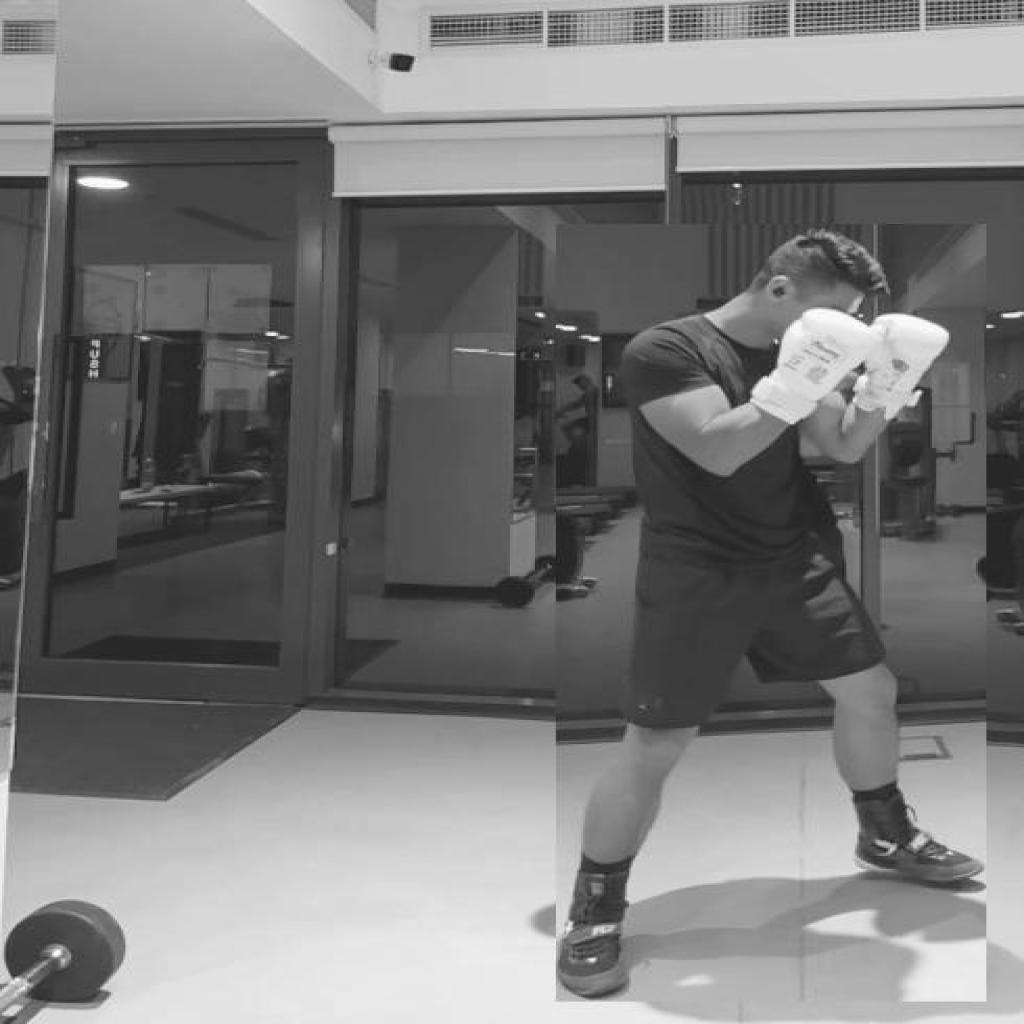no punch: (556, 224, 987, 1001)
